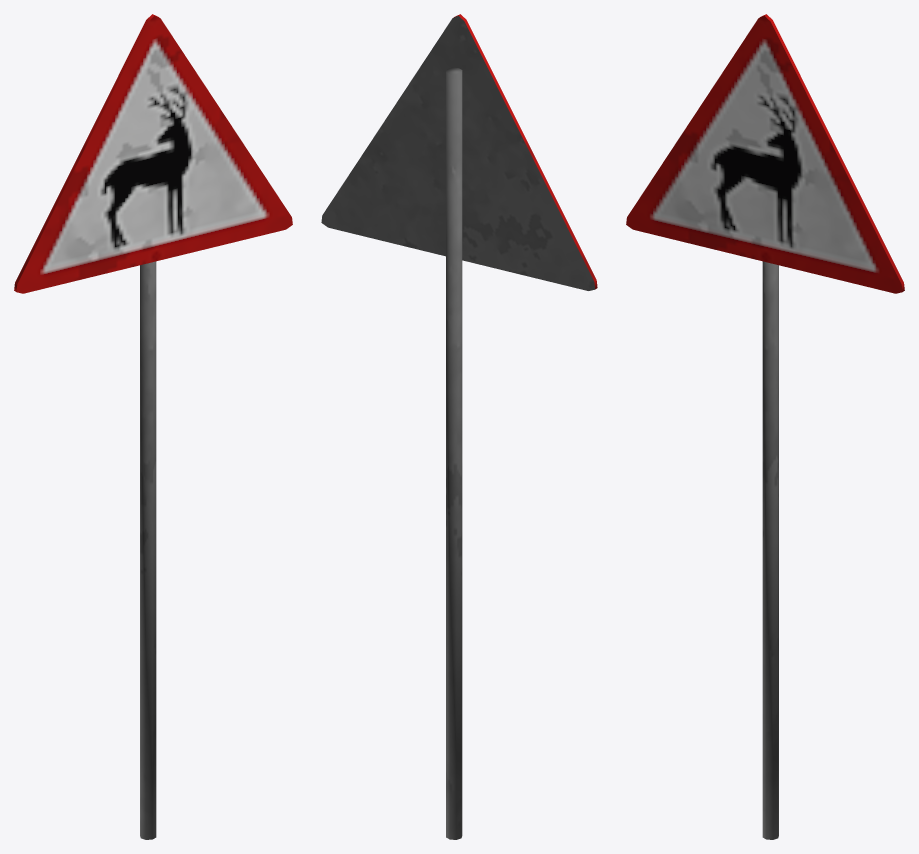
Rendered from Sign_05.glb.
The picture shows the model from 3 angles, left to right: view 1: azimuth 30°, elevation 25°; view 2: azimuth 150°, elevation 25°; view 3: azimuth 330°, elevation 25°; orthographic projection.
Parts seen in each view (by area): view 1: Sign_05.001; view 2: Sign_05.001; view 3: Sign_05.001.
Boxes of the visible parts, bbox=[...] form: Sign_05.001: bbox=[14, 14, 292, 839]; Sign_05.001: bbox=[321, 14, 597, 839]; Sign_05.001: bbox=[626, 14, 904, 839].
Size of the model in its own units: 0.7487 by 2.14 by 0.0505.
Materials: 1 (1 with a texture image).
